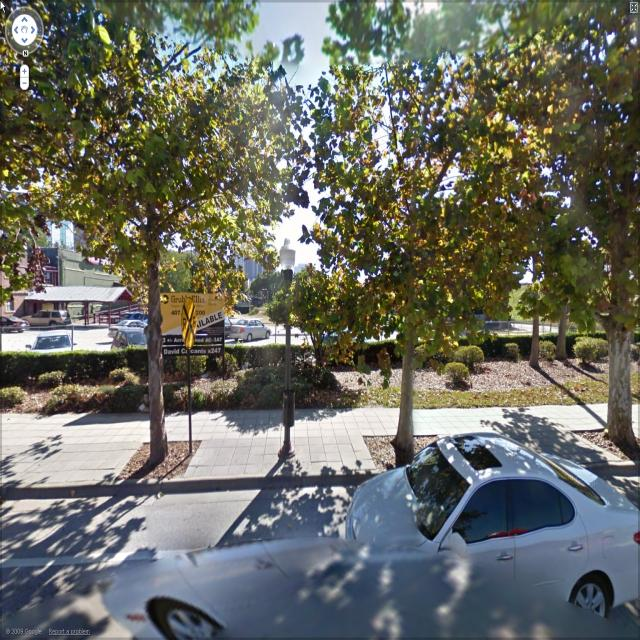b_2: (206, 216, 276, 301), (272, 230, 302, 289)
